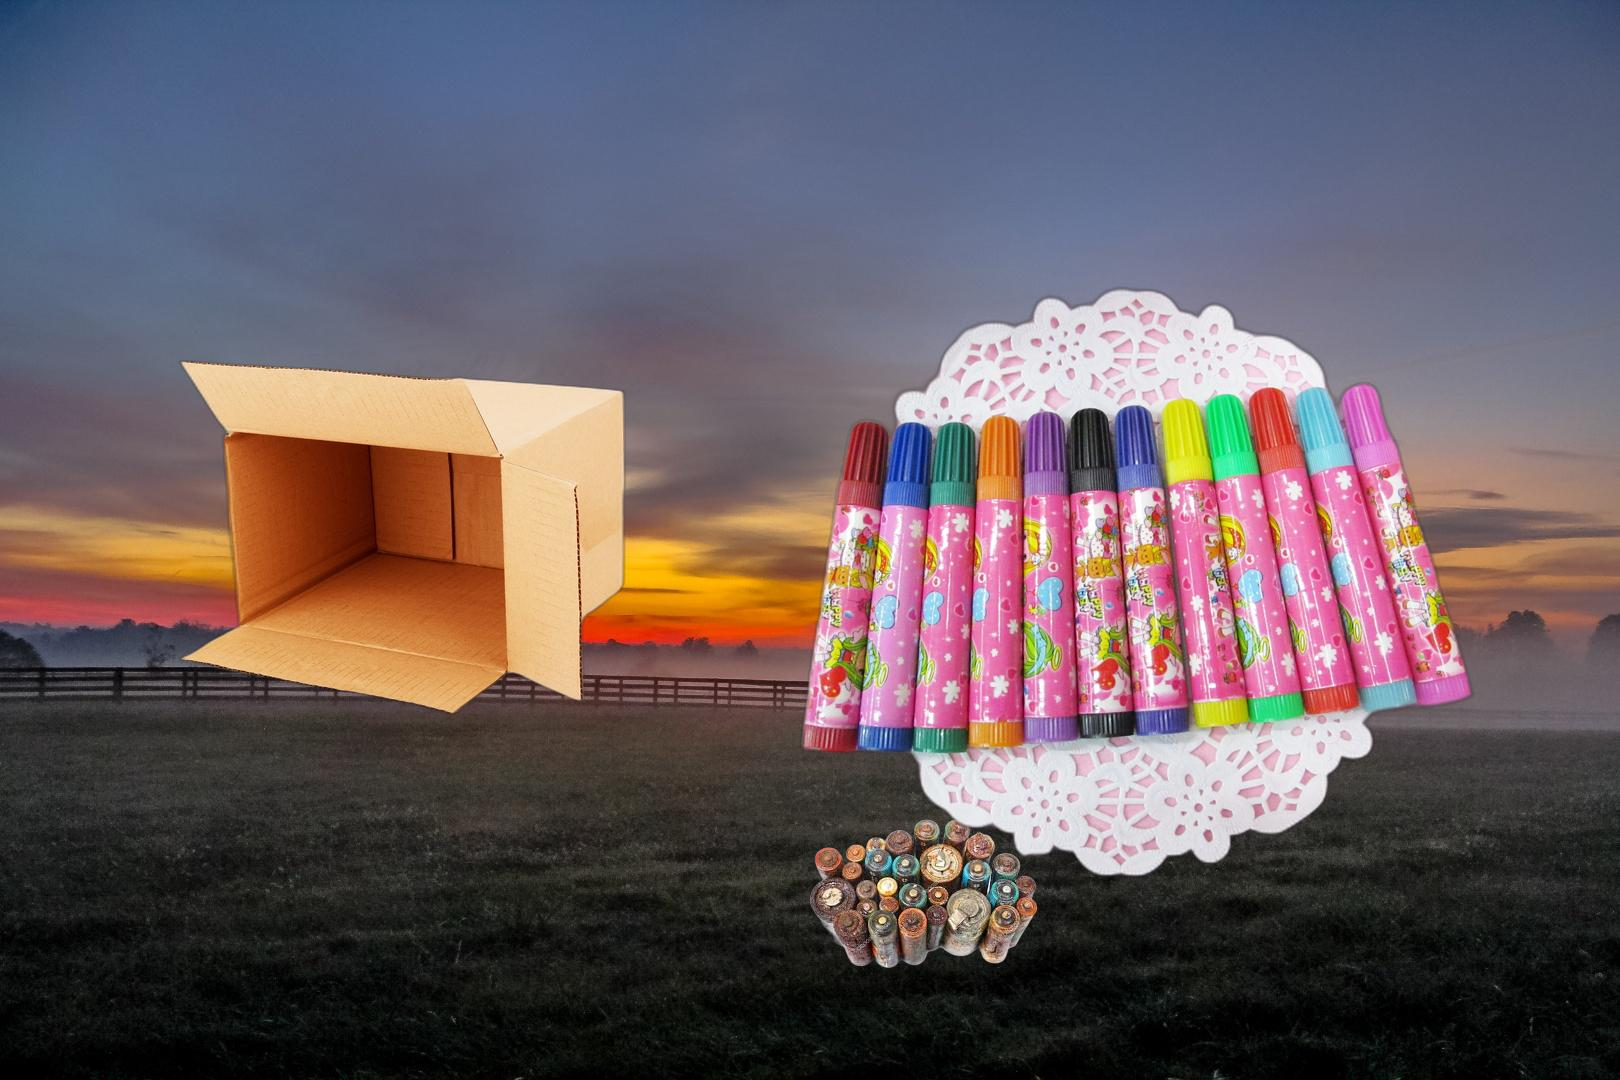battery: (808, 817, 1041, 972)
penholder: (796, 282, 1479, 884)
trashbox-cardboard: (174, 357, 632, 718)
